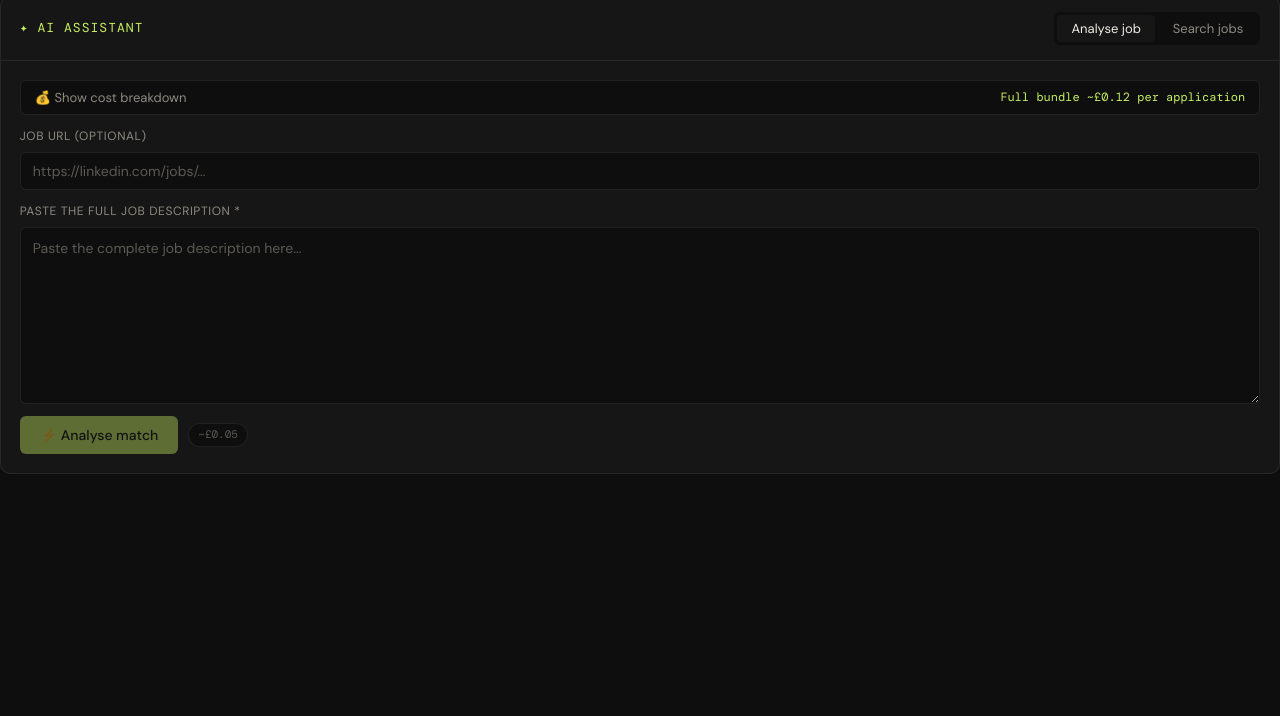
Test: AIPanel › analyse job › analyses the job and displays the result
Type "Frontend Engineer React TypeScript Next.js" into the text box with placeholder "Paste the complete job description here...".
click(640, 315); type("Frontend Engineer React TypeScript Next.js")  # box [20, 227, 1260, 404]
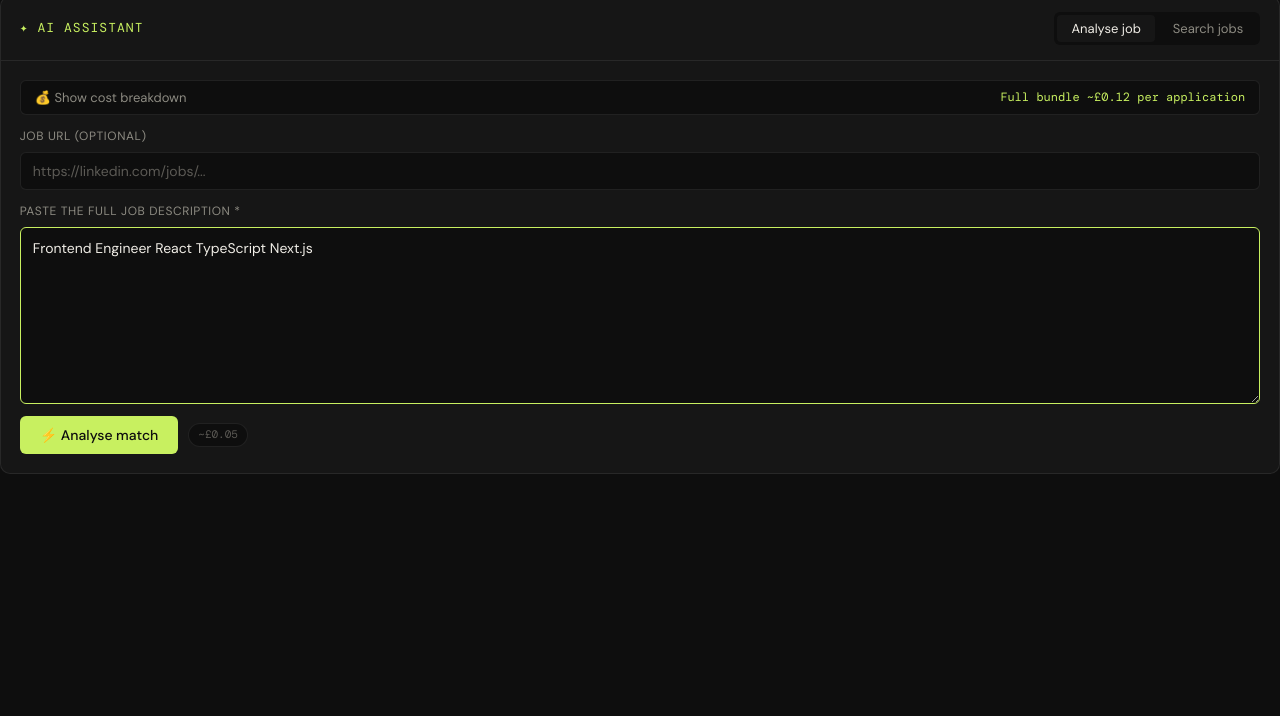
Click the button "⚡ Analyse match".
click(99, 435)  # box [20, 416, 178, 454]
(page scrolled)
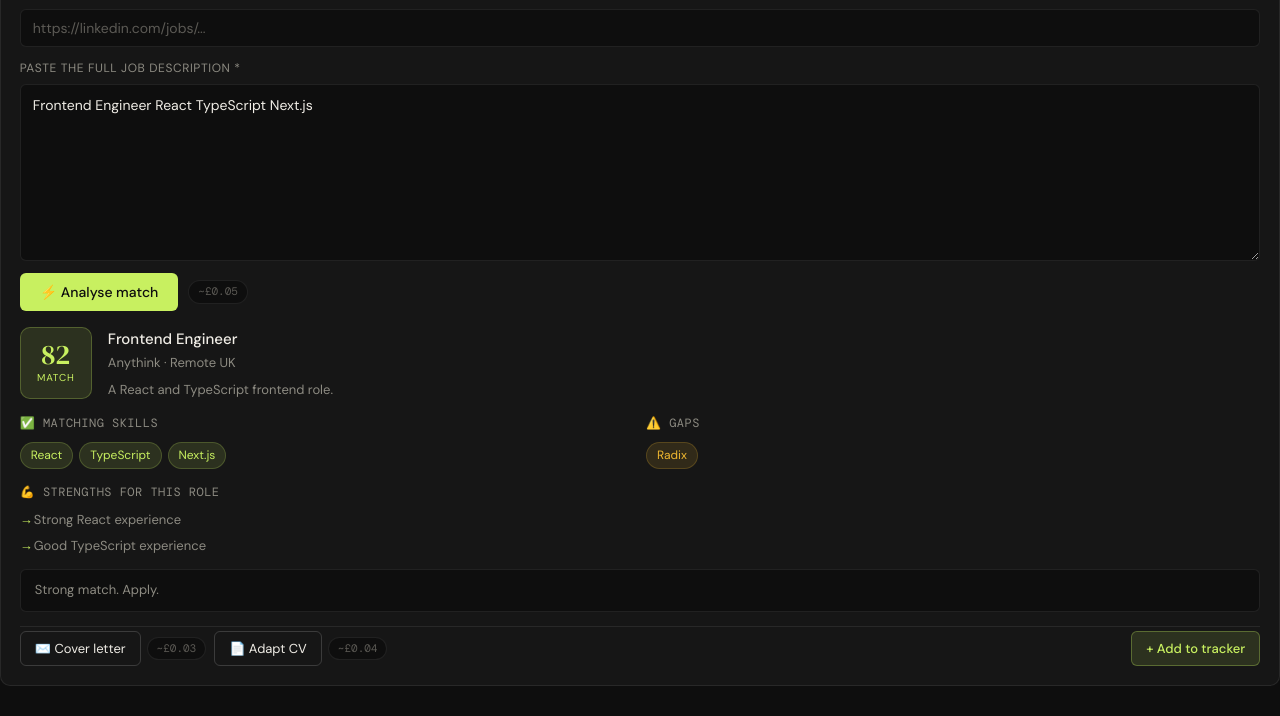
Result: the text "82" is shown at [41, 340, 70, 368]
Result: the text "Frontend Engineer" is shown at [108, 329, 238, 349]
Result: the text "Anythink · Remote UK" is shown at [108, 354, 236, 371]
